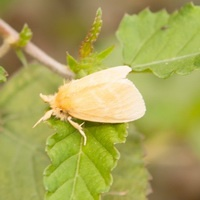insect: (33, 66, 145, 144)
